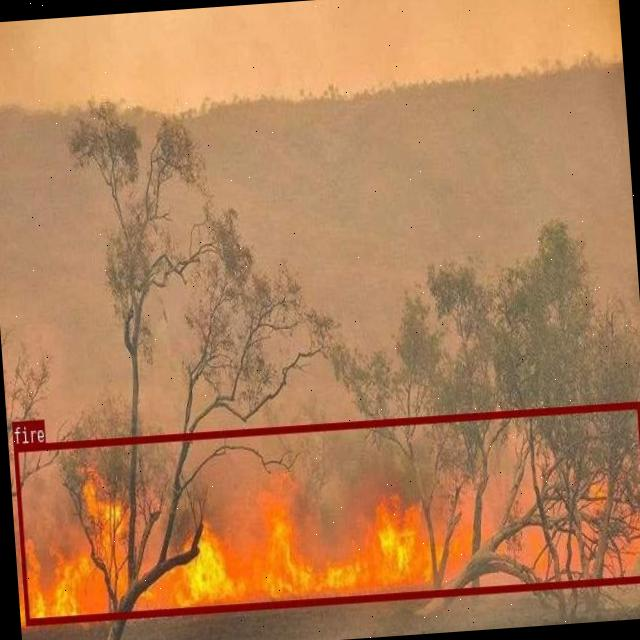fire: (13, 401, 640, 623)
